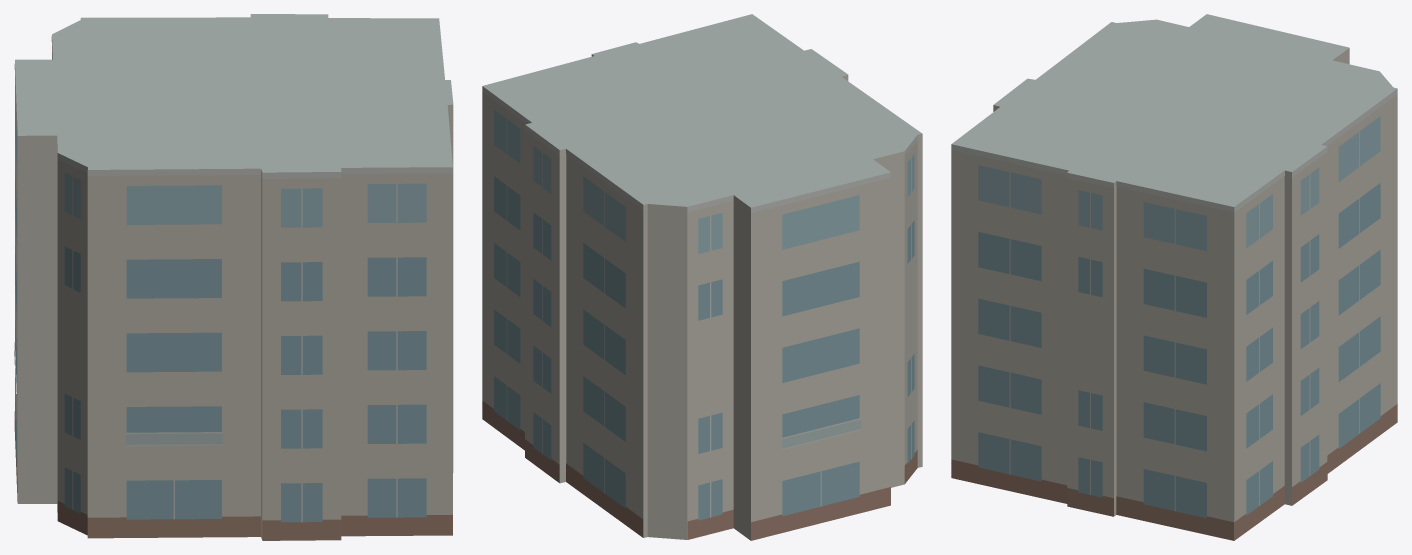
File: survey-upis-32664241.glb
3 views of the same model, side by side, from view 1: azimuth 30°, elevation 25°; view 2: azimuth 150°, elevation 25°; view 3: azimuth 270°, elevation 25° (orthographic). The views are drawn at different scales.
Parts seen in each view (by area): view 1: survey-upis-32664241.tmp; view 2: survey-upis-32664241.tmp; view 3: survey-upis-32664241.tmp.
Boxes of the visible parts, x1,y1,x2,y2 form: survey-upis-32664241.tmp: [14, 14, 453, 540]; survey-upis-32664241.tmp: [482, 14, 922, 540]; survey-upis-32664241.tmp: [951, 14, 1397, 540].
Size of the model in its own units: 18.12 by 14.6 by 17.7.
